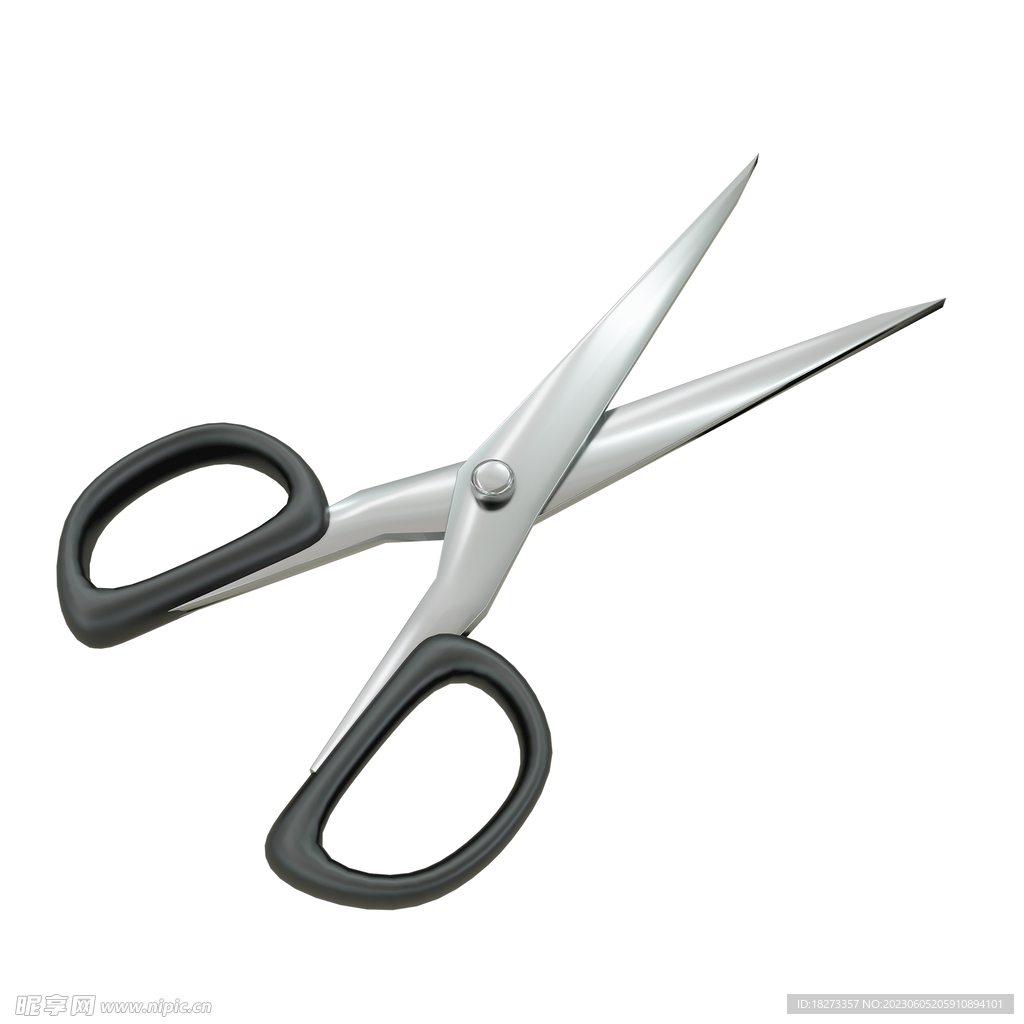scissors: (1, 150, 957, 914)
